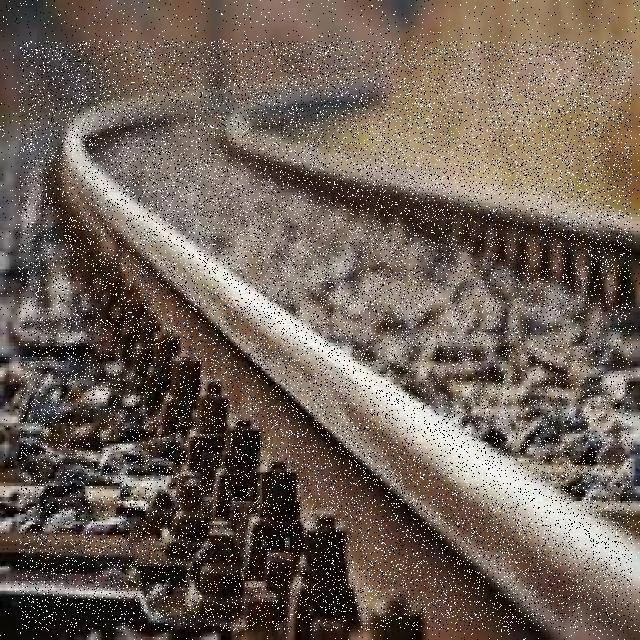rail: (21, 43, 633, 632)
